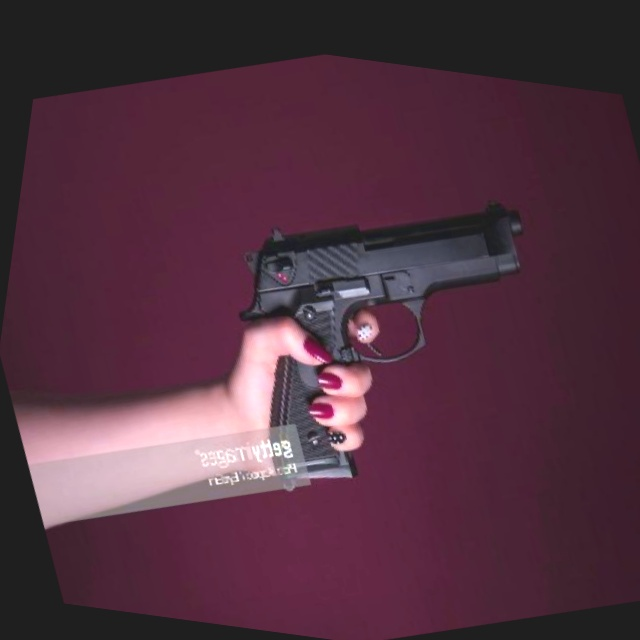gun: (152, 146, 617, 541)
